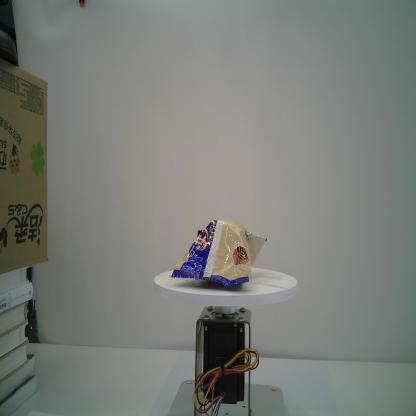Dessert: (165, 217, 268, 291)
